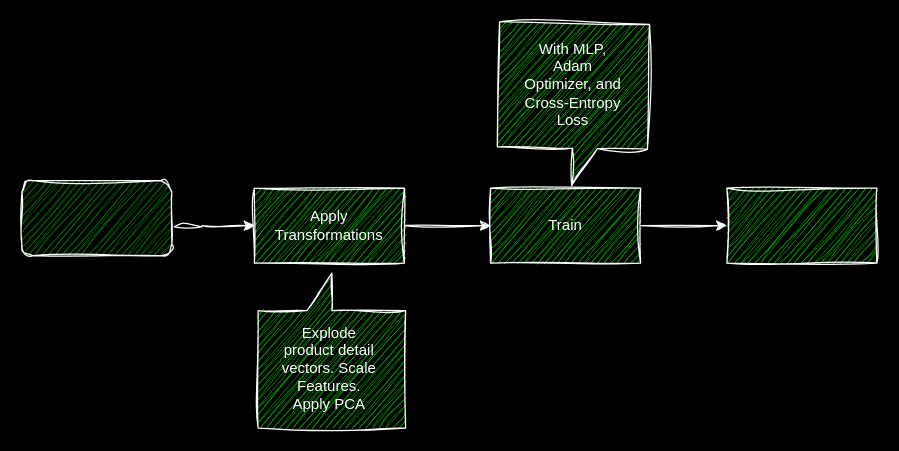
This 899x451 diagram has some shape labels left out. The box of each missing label's shape, as (x1, y1, x2, y2) in pixels:
Load Data: (21, 179, 172, 256)
Test: (726, 187, 877, 263)
